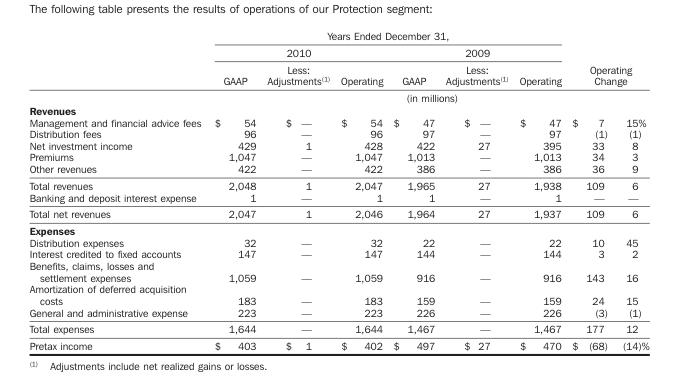table: (28, 29, 648, 351)
table column: (28, 29, 207, 351), (260, 29, 334, 351), (439, 29, 513, 351), (207, 29, 260, 351), (334, 29, 387, 351), (513, 29, 566, 351), (387, 29, 439, 351), (566, 29, 614, 351), (614, 29, 648, 351)
table column header: (28, 29, 648, 103)
table projected row header: (28, 221, 648, 236), (28, 103, 648, 116)
table row: (28, 60, 648, 88), (28, 259, 648, 282), (28, 282, 648, 305), (28, 43, 648, 60), (28, 205, 648, 221), (28, 320, 648, 336), (28, 88, 648, 103), (28, 190, 648, 205), (28, 221, 648, 236), (28, 305, 648, 320), (28, 336, 648, 351), (28, 29, 648, 43), (28, 162, 648, 176), (28, 176, 648, 190), (28, 103, 648, 116), (28, 127, 648, 139), (28, 150, 648, 162), (28, 247, 648, 259), (28, 116, 648, 127), (28, 139, 648, 150), (28, 236, 648, 247)
table spanning cell: (207, 88, 648, 103), (207, 29, 566, 43), (566, 29, 648, 88), (207, 43, 387, 60), (387, 43, 566, 60)
